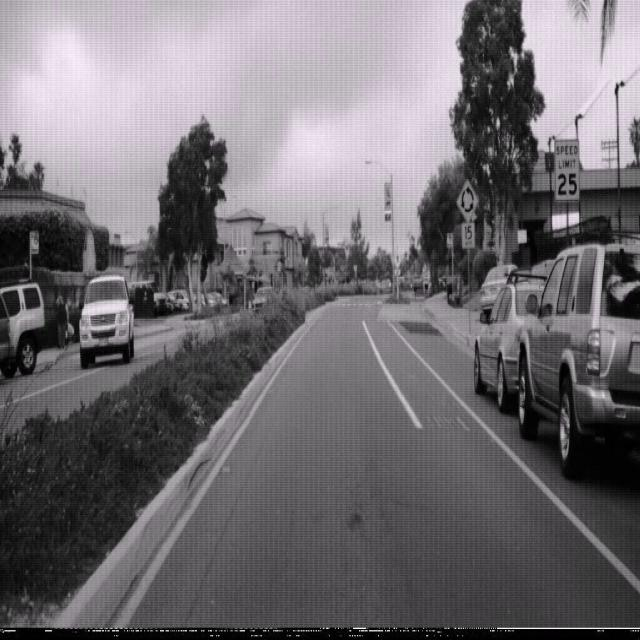speedLimit25: (554, 138, 580, 202)
